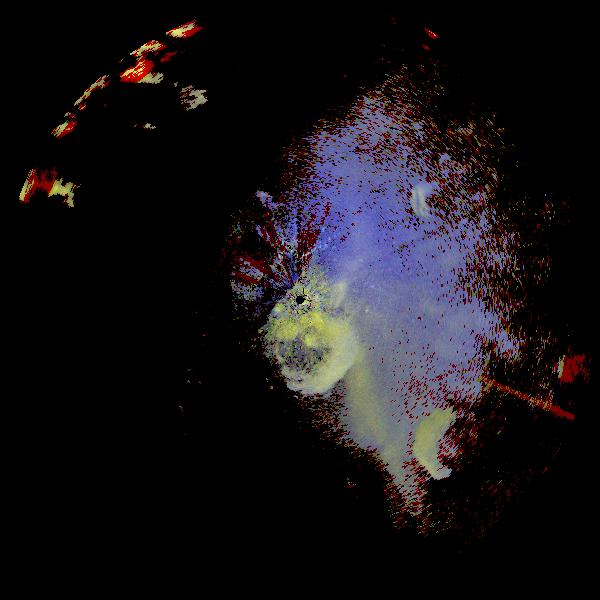roost: (247, 286, 376, 415), (393, 139, 507, 253), (401, 393, 509, 501)
